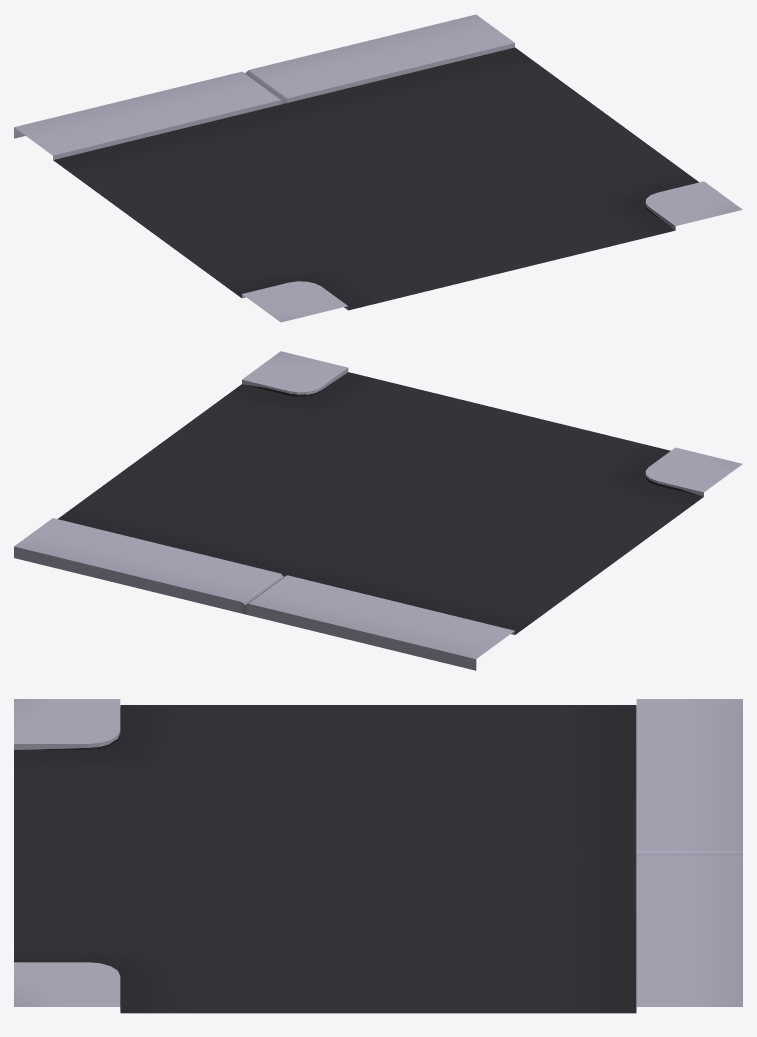
The model's file is TRoad.fbx.
3 views of the same model, one above another, from view 1: azimuth 30°, elevation 25°; view 2: azimuth 150°, elevation 25°; view 3: azimuth 270°, elevation 25° (orthographic). The views are drawn at different scales.
Visible parts, largest first — view 1: T road; view 2: T road; view 3: T road.
Part boxes in pixels (x1=…): T road: x1=14, y1=14, x2=742, y2=322; T road: x1=14, y1=351, x2=742, y2=670; T road: x1=14, y1=699, x2=742, y2=1013.
Size of the model in its own units: 15.68 by 0.3743 by 15.68.
